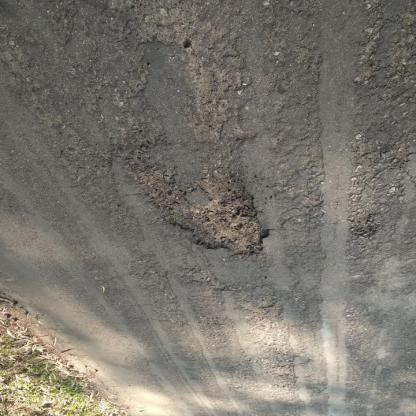pothole: (147, 172, 273, 260), (349, 211, 381, 241)
